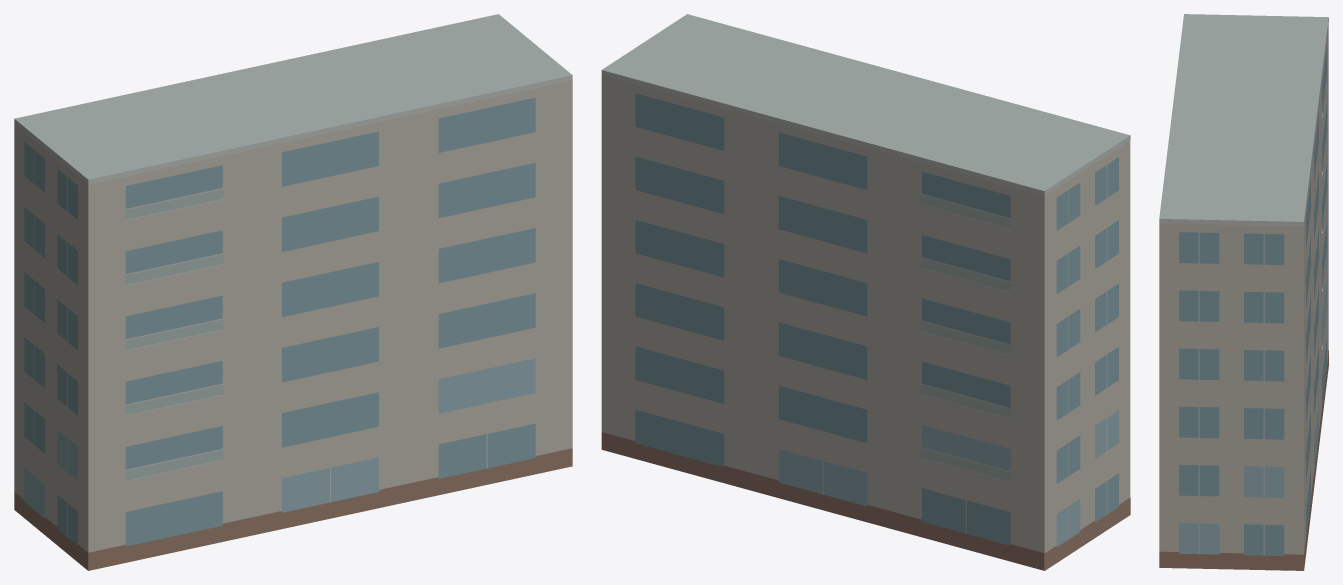
The model's file is survey-upis-33002363.glb.
3 renders of one model, left to right at view 1: azimuth 30°, elevation 25°; view 2: azimuth 150°, elevation 25°; view 3: azimuth 270°, elevation 25°, orthographic. The views are drawn at different scales.
Parts seen in each view (by area): view 1: survey-upis-33002363.tmp; view 2: survey-upis-33002363.tmp; view 3: survey-upis-33002363.tmp.
Part boxes in pixels (x1=…): survey-upis-33002363.tmp: x1=14, y1=14, x2=572, y2=570; survey-upis-33002363.tmp: x1=601, y1=14, x2=1130, y2=570; survey-upis-33002363.tmp: x1=1159, y1=14, x2=1328, y2=570.
Bounding box in the file's own units: 23.39 × 18.3 × 8.07.
